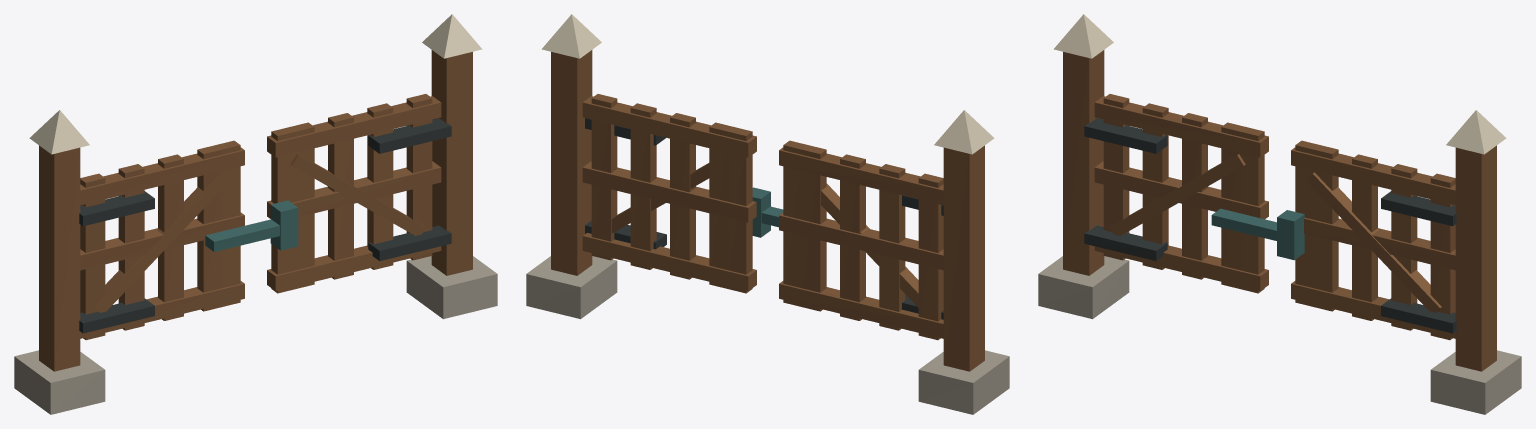
The model's file is gates.source.glb.
3 views of the same model, side by side, from view 1: azimuth 30°, elevation 25°; view 2: azimuth 150°, elevation 25°; view 3: azimuth 330°, elevation 25° (orthographic).
Parts seen in each view (by area): view 1: gates-slim-timber-post--1.8-mesh, gates-slim-timber-post-1.8-mesh, gates-stone-foot--1.8-mesh, gates-stone-foot-1.8-mesh, gates-right-horizontal-rail-1.72-mesh, gates-left-horizontal-rail-1.72-mesh, gates-left-vertical-slat-0.88-mesh, gates-right-vertical-slat-0.88-mesh, gates-left-diagonal-brace-mesh, gates-right-horizontal-rail-1.15-mesh, gates-left-horizontal-rail-1.15-mesh, gates-right-horizontal-rail-0.55-mesh (+18 smaller); view 2: gates-slim-timber-post--1.8-mesh, gates-slim-timber-post-1.8-mesh, gates-stone-foot--1.8-mesh, gates-stone-foot-1.8-mesh, gates-right-horizontal-rail-1.72-mesh, gates-right-horizontal-rail-1.15-mesh, gates-right-horizontal-rail-0.55-mesh, gates-left-horizontal-rail-1.72-mesh, gates-left-horizontal-rail-1.15-mesh, gates-left-horizontal-rail-0.55-mesh, gates-right-vertical-slat-0.52-mesh, gates-left-vertical-slat-0.88-mesh (+14 smaller); view 3: gates-slim-timber-post-1.8-mesh, gates-slim-timber-post--1.8-mesh, gates-stone-foot-1.8-mesh, gates-stone-foot--1.8-mesh, gates-left-horizontal-rail-1.72-mesh, gates-right-horizontal-rail-1.72-mesh, gates-left-horizontal-rail-1.15-mesh, gates-right-vertical-slat-0.88-mesh, gates-left-vertical-slat-0.88-mesh, gates-right-diagonal-brace-mesh, gates-right-horizontal-rail-1.15-mesh, gates-left-vertical-slat-1.4-mesh (+18 smaller).
Part boxes in pixels (<box>): gates-slim-timber-post--1.8-mesh: <box>39,145,80,371</box>; gates-slim-timber-post-1.8-mesh: <box>431,50,472,275</box>; gates-stone-foot--1.8-mesh: <box>14,350,105,414</box>; gates-stone-foot-1.8-mesh: <box>406,256,497,319</box>; gates-right-horizontal-rail-1.72-mesh: <box>267,96,441,157</box>; gates-left-horizontal-rail-1.72-mesh: <box>80,147,244,205</box>; gates-left-vertical-slat-0.88-mesh: <box>158,154,183,320</box>; gates-right-vertical-slat-0.88-mesh: <box>328,113,353,279</box>; gates-left-diagonal-brace-mesh: <box>94,172,229,312</box>; gates-right-horizontal-rail-1.15-mesh: <box>267,161,441,218</box>; gates-left-horizontal-rail-1.15-mesh: <box>80,212,244,270</box>; gates-right-horizontal-rail-0.55-mesh: <box>267,245,441,290</box>; gates-slim-timber-post--1.8-mesh: <box>943,145,984,371</box>; gates-slim-timber-post-1.8-mesh: <box>551,50,592,275</box>; gates-stone-foot--1.8-mesh: <box>918,350,1009,414</box>; gates-stone-foot-1.8-mesh: <box>526,256,617,319</box>; gates-right-horizontal-rail-1.72-mesh: <box>582,96,756,157</box>; gates-right-horizontal-rail-1.15-mesh: <box>582,161,756,222</box>; gates-right-horizontal-rail-0.55-mesh: <box>582,233,756,290</box>; gates-left-horizontal-rail-1.72-mesh: <box>779,147,943,205</box>; gates-left-horizontal-rail-1.15-mesh: <box>779,212,943,270</box>; gates-left-horizontal-rail-0.55-mesh: <box>779,281,943,338</box>; gates-right-vertical-slat-0.52-mesh: <box>630,103,656,269</box>; gates-left-vertical-slat-0.88-mesh: <box>840,154,865,320</box>; gates-slim-timber-post-1.8-mesh: <box>1455,145,1496,371</box>; gates-slim-timber-post--1.8-mesh: <box>1063,50,1104,275</box>; gates-stone-foot-1.8-mesh: <box>1430,350,1521,414</box>; gates-stone-foot--1.8-mesh: <box>1038,256,1129,319</box>; gates-left-horizontal-rail-1.72-mesh: <box>1094,96,1268,157</box>; gates-right-horizontal-rail-1.72-mesh: <box>1291,147,1455,205</box>; gates-left-horizontal-rail-1.15-mesh: <box>1094,161,1268,219</box>; gates-right-vertical-slat-0.88-mesh: <box>1352,154,1377,320</box>; gates-left-vertical-slat-0.88-mesh: <box>1182,113,1207,279</box>; gates-right-diagonal-brace-mesh: <box>1306,172,1441,312</box>; gates-right-horizontal-rail-1.15-mesh: <box>1304,217,1455,270</box>; gates-left-vertical-slat-1.4-mesh: <box>1238,126,1264,293</box>.
Bounding box in the file's own units: 4.1 × 2.5 × 0.58.
